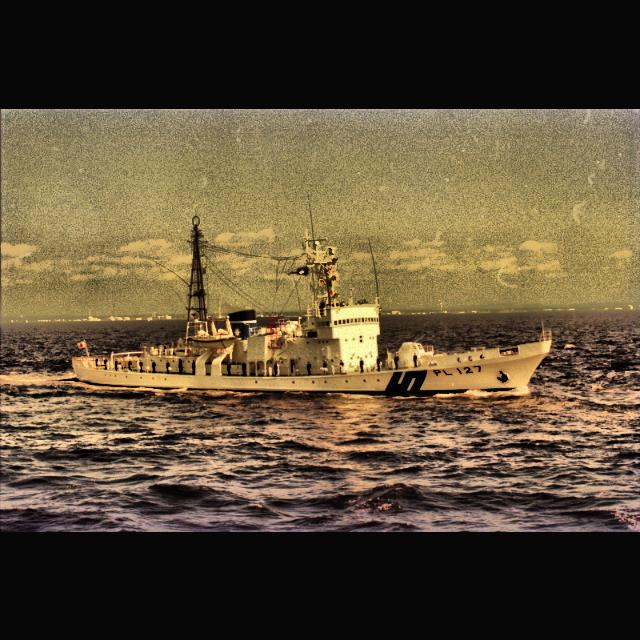patrol_vessel: (69, 212, 555, 394)
